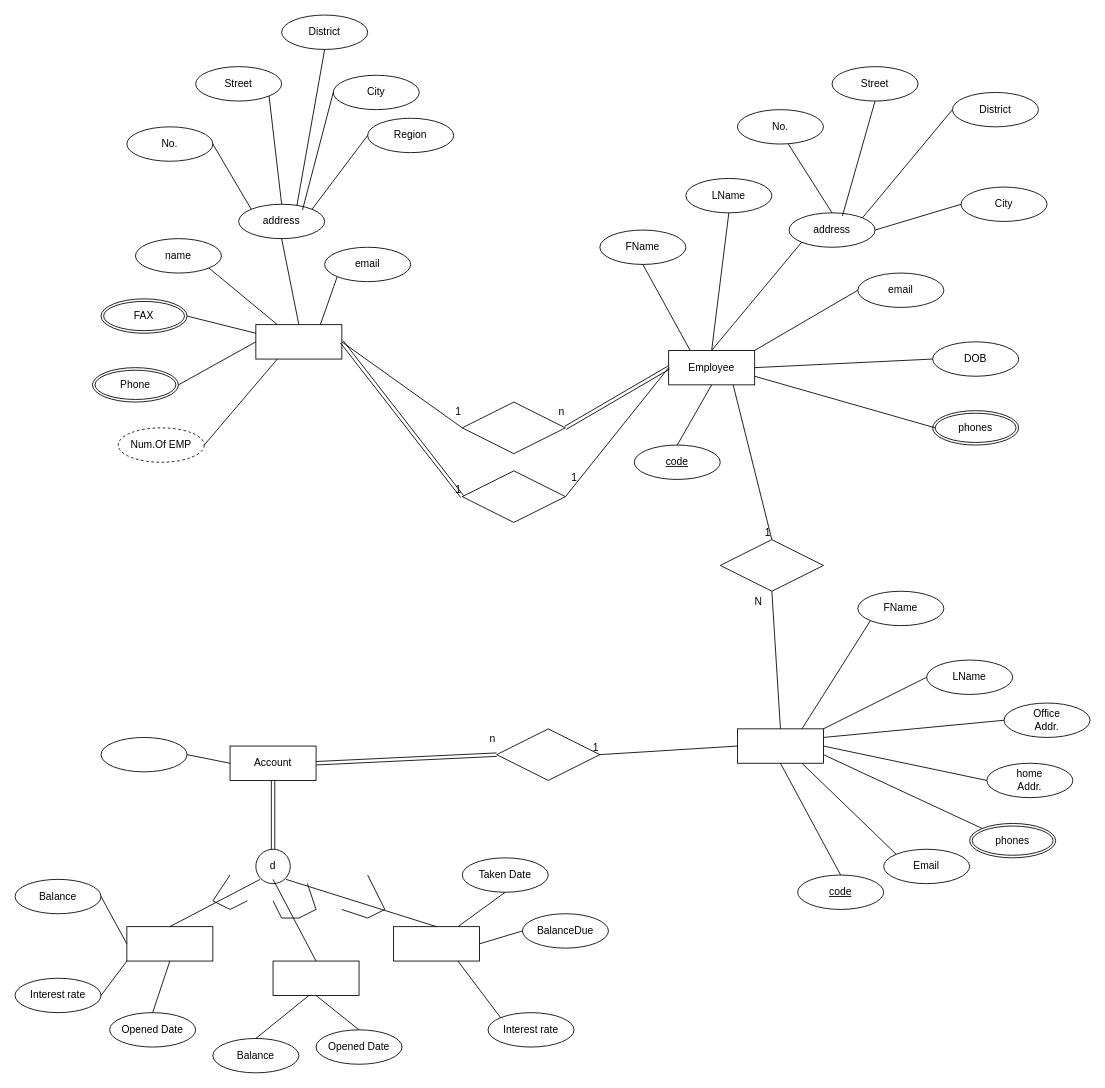
Image size: 1105x1088. Some labels were removed from this diagram. Here are the shapes that lost their labels. From the top down, the box of each, then its label:
(255, 324, 342, 359): branch
(461, 401, 565, 454): work for
(461, 470, 565, 522): Manager
(719, 539, 823, 591): server
(100, 737, 187, 772): Number
(496, 728, 600, 780): Relationship
(737, 728, 823, 763): customer
(126, 926, 213, 961): Saving Account
(393, 926, 479, 961): Loan
(272, 960, 359, 995): Checking Account
